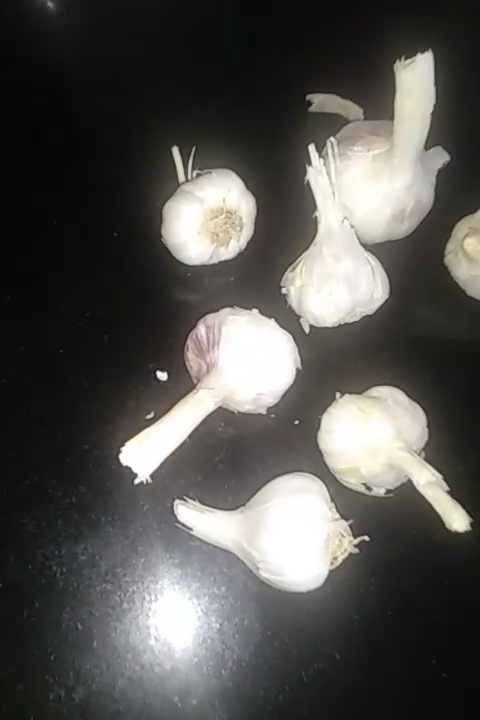garlic: (131, 317, 298, 486), (312, 380, 463, 538), (173, 479, 359, 602), (328, 48, 444, 242), (279, 148, 389, 325), (163, 156, 258, 262), (417, 209, 480, 306)
